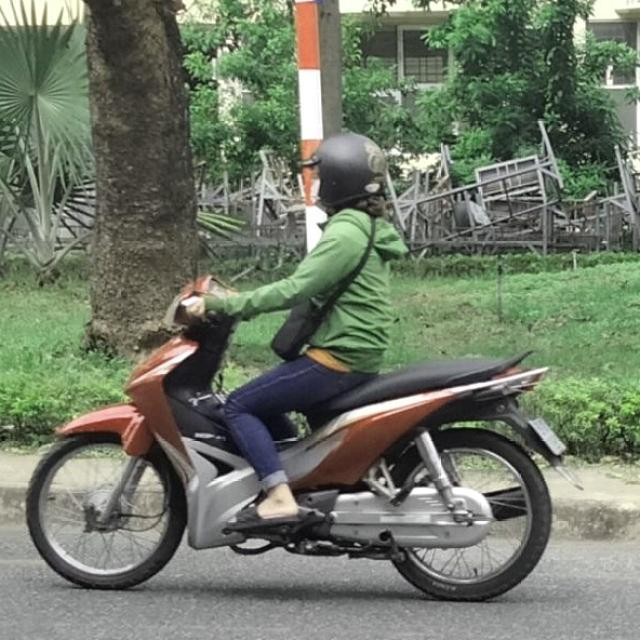Helmet: (306, 124, 386, 213)
